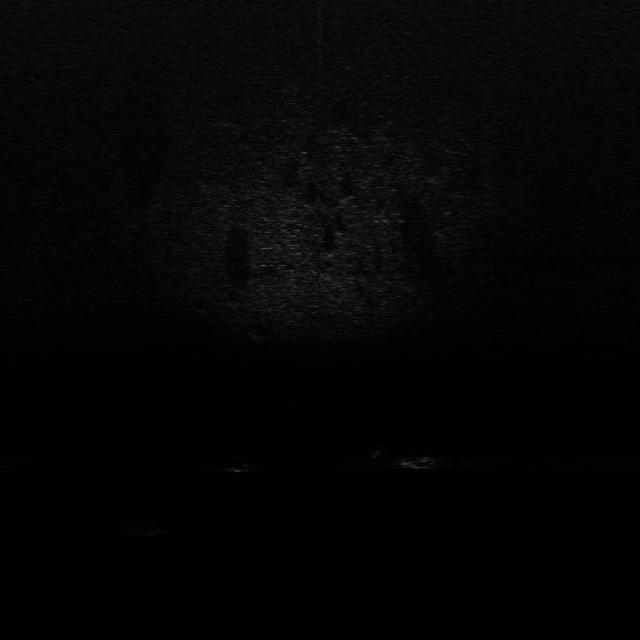ball: (216, 454, 260, 475)
circle cage: (119, 514, 173, 539)
human body: (370, 442, 466, 475)
